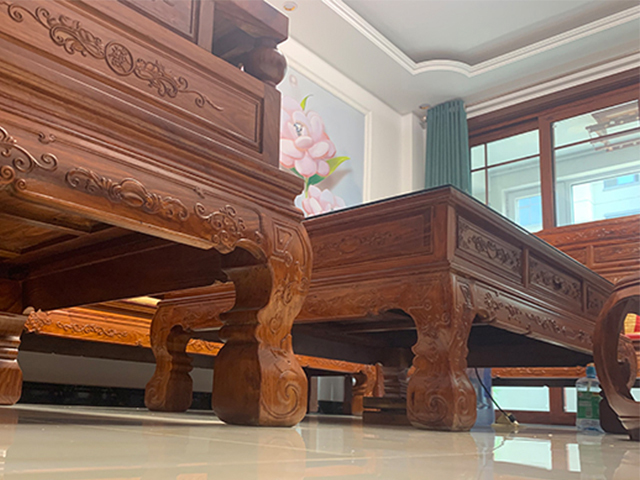sofa: (1, 1, 314, 427)
table: (142, 182, 637, 436)
